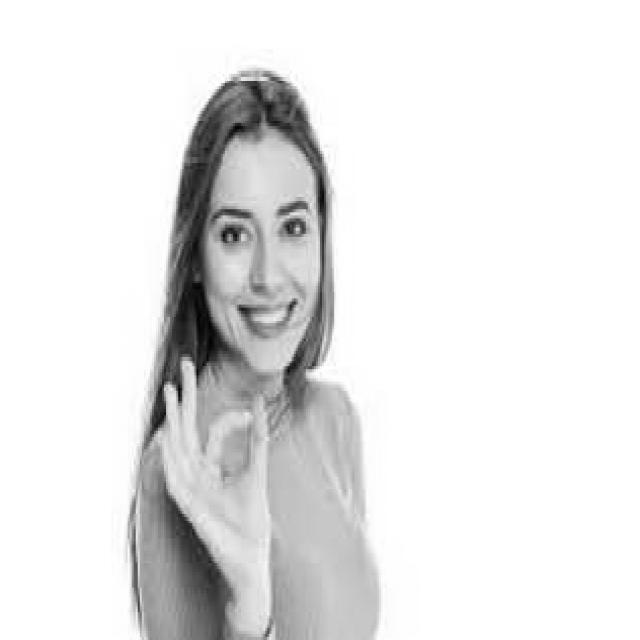perfect: (154, 349, 280, 606)
